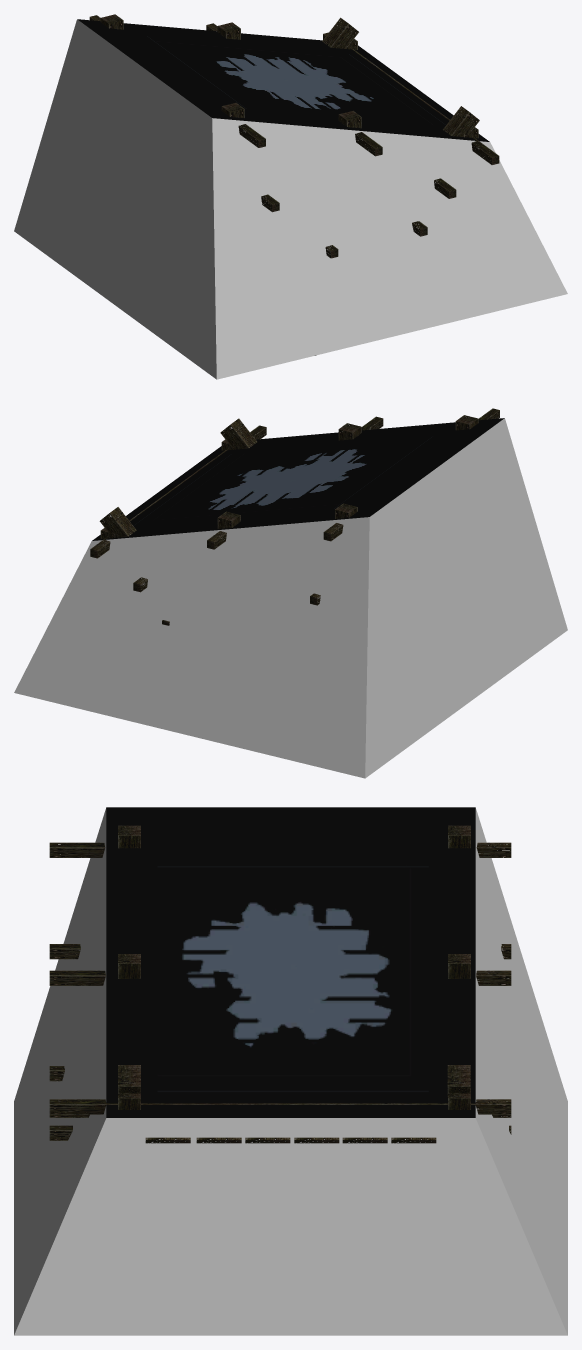
File: default_broken.dae
3 views of the same model, one above another, from view 1: azimuth 30°, elevation 25°; view 2: azimuth 150°, elevation 25°; view 3: azimuth 270°, elevation 25° (orthographic). The views are drawn at different scales.
Visible parts, largest first — view 1: polySurface48, polySurface49, polySurface89; view 2: polySurface48, polySurface49, polySurface89; view 3: polySurface48, polySurface49, polySurface89.
Part boxes in pixels (<box>): polySurface48: <box>14,19,567,379</box>; polySurface49: <box>78,19,489,141</box>; polySurface89: <box>89,14,499,258</box>; polySurface48: <box>14,418,567,778</box>; polySurface49: <box>92,418,504,540</box>; polySurface89: <box>90,408,499,625</box>; polySurface48: <box>14,808,567,1335</box>; polySurface49: <box>106,807,475,1117</box>; polySurface89: <box>49,825,511,1143</box>.
Bounding box in the file's own units: 6 × 4.65 × 6.
